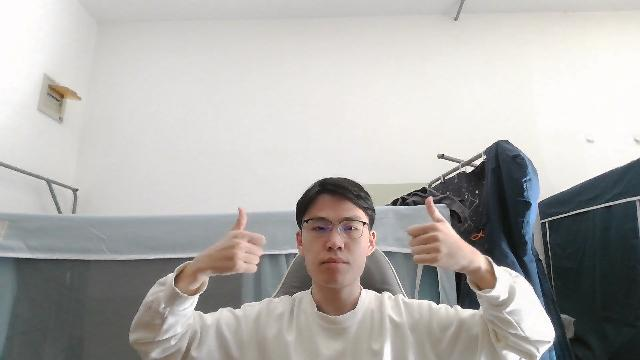good: (190, 205, 269, 281), (403, 193, 476, 274)
